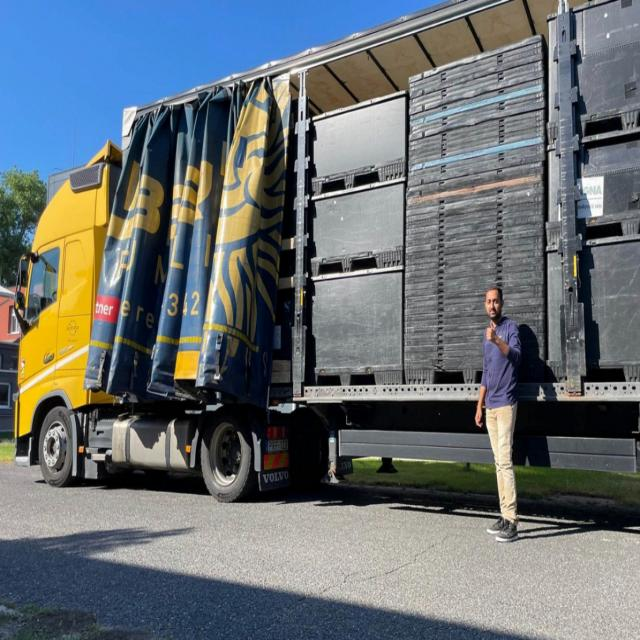truck: (14, 0, 640, 500)
